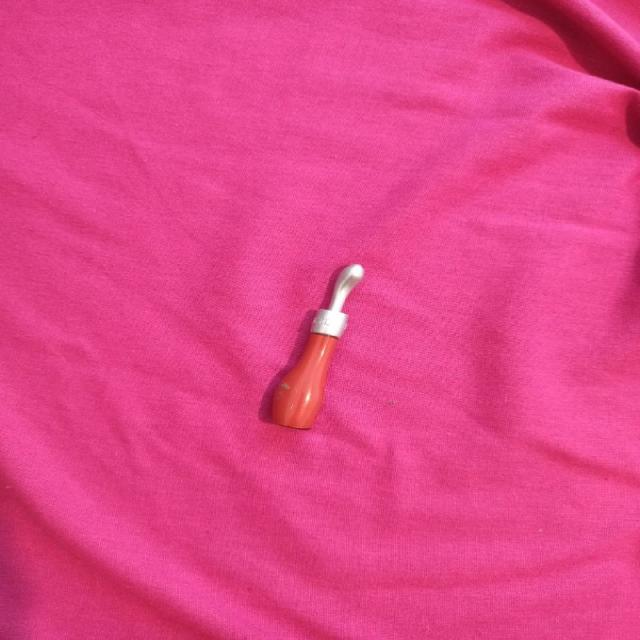lipstick: (271, 262, 364, 430)
